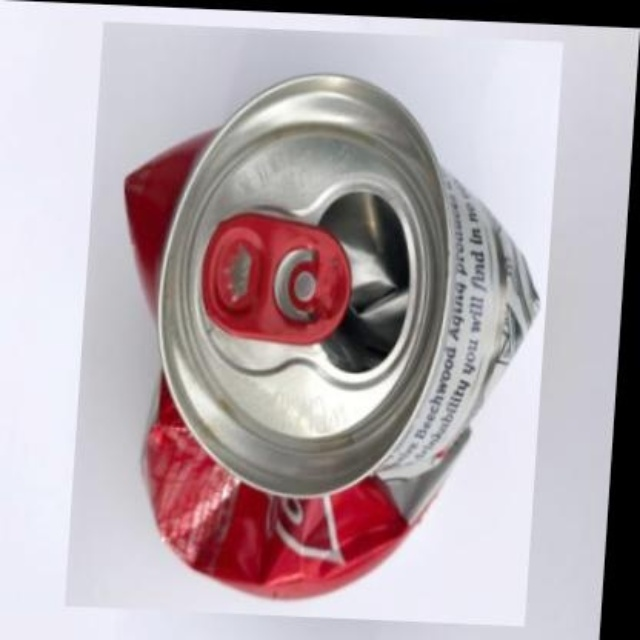trash: (125, 74, 537, 597)
